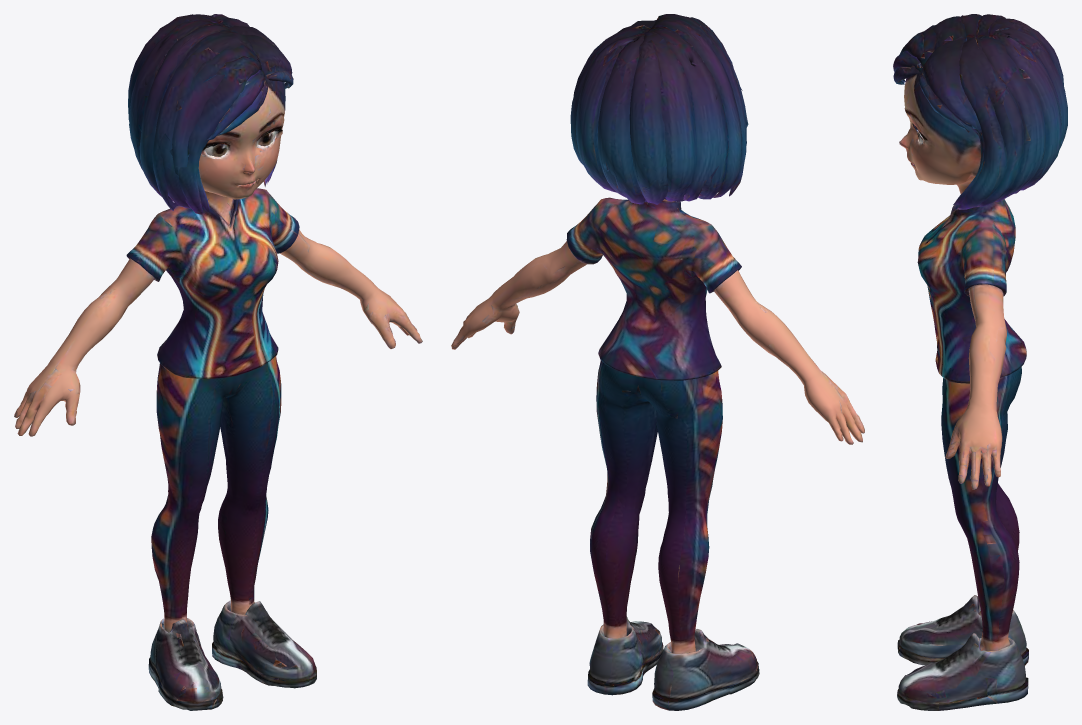
File: rosa.glb
3 views of the same model, side by side, from view 1: azimuth 30°, elevation 25°; view 2: azimuth 150°, elevation 25°; view 3: azimuth 270°, elevation 25° (orthographic).
Parts seen in each view (by area): view 1: mesh_node; view 2: mesh_node; view 3: mesh_node.
Part boxes in pixels (x1,y1,x2,y2): mesh_node: [14, 14, 422, 710]; mesh_node: [451, 14, 864, 710]; mesh_node: [893, 14, 1067, 710].
Size of the model in its own units: 0.6484 by 1 by 0.2427.
1 material, 1 textured.
